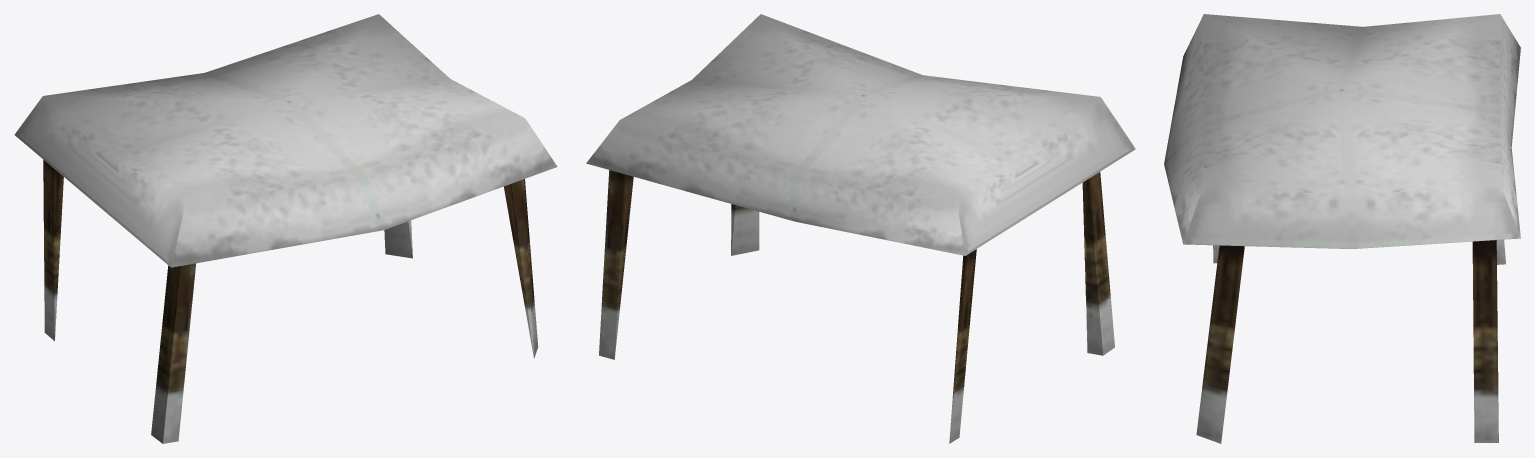
The model's file is nsm-general_obj_07_lod_01.fbx.
3 renders of one model, left to right at view 1: azimuth 30°, elevation 25°; view 2: azimuth 150°, elevation 25°; view 3: azimuth 270°, elevation 25°, orthographic. The views are drawn at different scales.
Parts seen in each view (by area): view 1: Object01; view 2: Object01; view 3: Object01.
Boxes of the visible parts, bbox=[...] form: Object01: bbox=[14, 14, 557, 443]; Object01: bbox=[586, 14, 1135, 443]; Object01: bbox=[1164, 14, 1520, 443].
Size of the model in its own units: 4.57 by 2.85 by 3.54.
